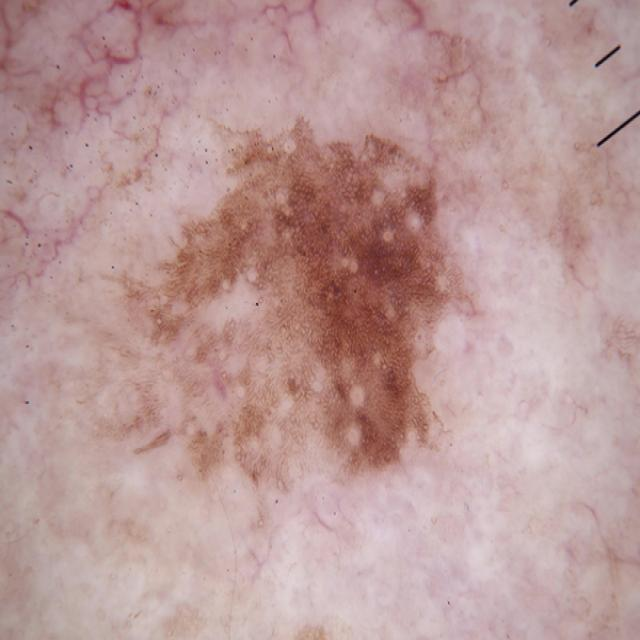Skin-Cancer Pigmented benign keratosis: (0, 1, 639, 640)
